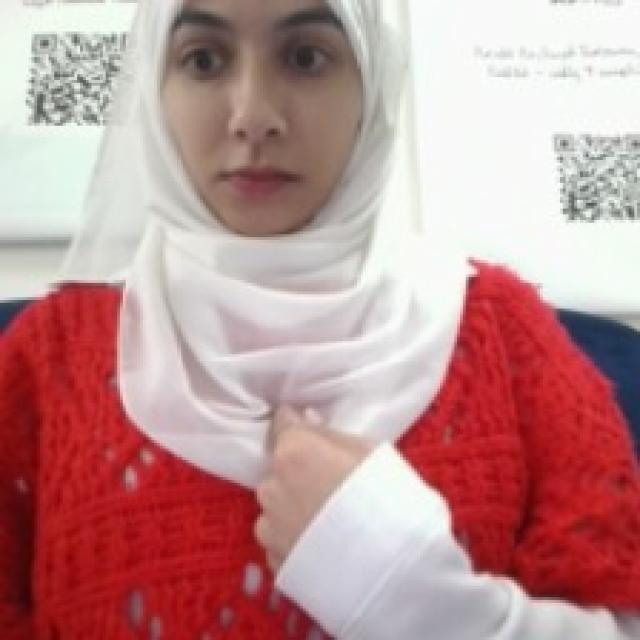me: (249, 394, 385, 583)
